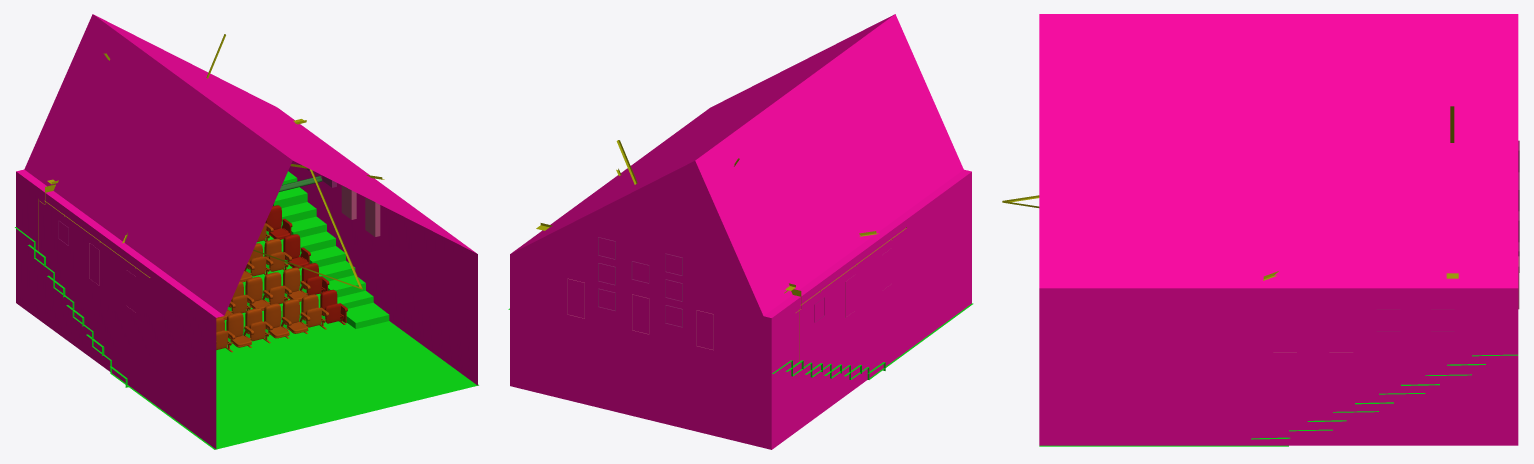
File: SM_auditorium.FBX
3 renders of one model, left to right at view 1: azimuth 30°, elevation 25°; view 2: azimuth 150°, elevation 25°; view 3: azimuth 270°, elevation 25°, orthographic. The views are drawn at different scales.
Visible parts, largest first — view 1: SM_auditorium; view 2: SM_auditorium; view 3: SM_auditorium.
Boxes of the visible parts, box(x1,y1,x2,y2) form: SM_auditorium: box(15, 14, 478, 449); SM_auditorium: box(508, 14, 973, 449); SM_auditorium: box(1002, 14, 1519, 446).
Bounding box in the file's own units: 104 × 102 × 147.
